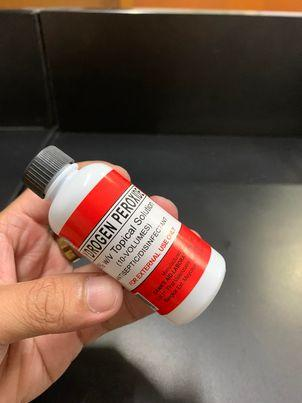-Bottle-: (23, 145, 228, 327)
